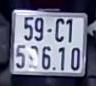0: (71, 46, 80, 71)
1: (57, 46, 66, 71), (66, 18, 73, 44)
5: (23, 17, 34, 42), (16, 43, 26, 69)
6: (42, 45, 51, 69)
9: (28, 45, 39, 70), (35, 17, 44, 42)
C: (55, 18, 65, 43)
